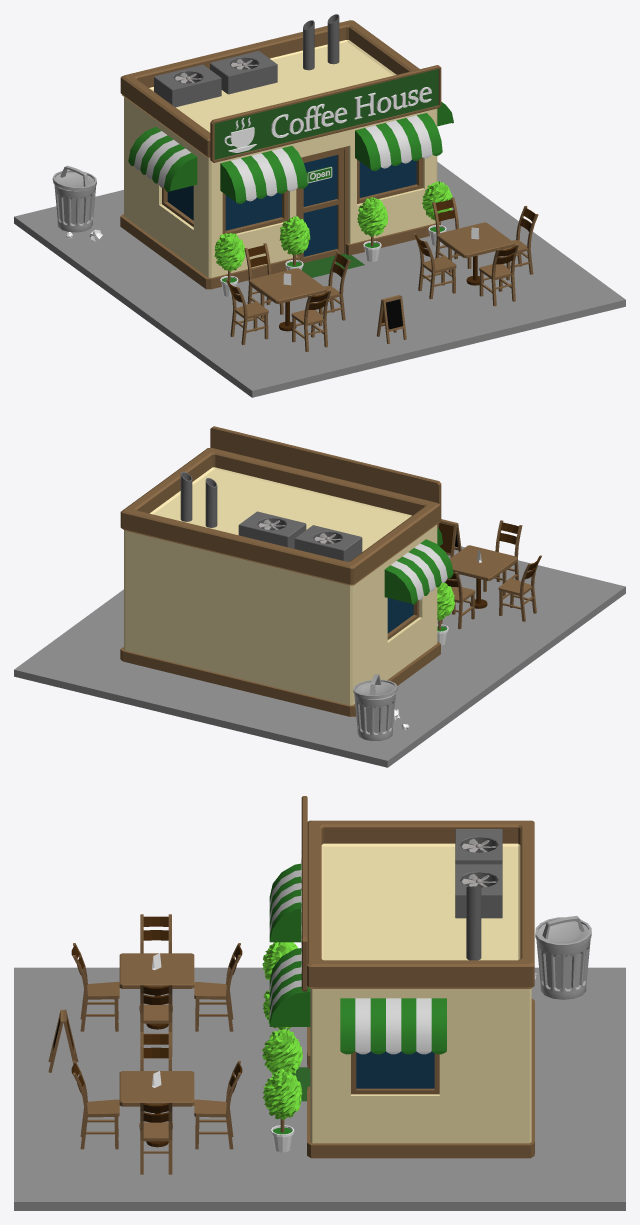
File: Cafe2.glb
The picture shows the model from 3 angles, top to bottom: view 1: azimuth 30°, elevation 25°; view 2: azimuth 150°, elevation 25°; view 3: azimuth 270°, elevation 25°; orthographic projection. The views are drawn at different scales.
Parts seen in each view (by area): view 1: object 19, object 1, object 25, object 3, object 5, object 6, object 12, object 2, object 13, object 15, object 44, object 50 (+20 smaller); view 2: object 1, object 19, object 25, object 12, object 44, object 20, object 13, object 15, object 45, object 47, object 21, object 48 (+5 smaller); view 3: object 19, object 1, object 10, object 9, object 44, object 6, object 50, object 20, object 5, object 15, object 52, object 13 (+14 smaller).
Part boxes in pixels (bbox=[...]): object 19: bbox=[14, 162, 625, 397]; object 1: bbox=[120, 20, 440, 289]; object 25: bbox=[210, 65, 441, 162]; object 3: bbox=[225, 155, 416, 256]; object 5: bbox=[220, 146, 307, 203]; object 6: bbox=[355, 113, 442, 170]; object 12: bbox=[128, 127, 197, 192]; object 2: bbox=[222, 146, 423, 256]; object 13: bbox=[154, 64, 221, 107]; object 15: bbox=[210, 51, 277, 94]; object 44: bbox=[249, 268, 326, 331]; object 50: bbox=[436, 222, 514, 285]; object 1: bbox=[120, 448, 440, 716]; object 19: bbox=[14, 546, 625, 767]; object 25: bbox=[210, 426, 441, 523]; object 12: bbox=[384, 539, 453, 604]; object 44: bbox=[450, 545, 517, 608]; object 20: bbox=[354, 682, 395, 741]; object 13: bbox=[294, 525, 362, 561]; object 15: bbox=[238, 511, 306, 548]; object 45: bbox=[498, 555, 541, 621]; object 47: bbox=[483, 520, 522, 596]; object 21: bbox=[353, 674, 397, 699]; object 48: bbox=[441, 572, 475, 629]; object 19: bbox=[14, 967, 625, 1210]; object 1: bbox=[272, 820, 534, 1158]; object 10: bbox=[340, 998, 446, 1054]; object 9: bbox=[356, 1051, 434, 1088]; object 44: bbox=[119, 953, 194, 1029]; object 6: bbox=[269, 948, 310, 1026]; object 50: bbox=[119, 1071, 194, 1147]; object 20: bbox=[536, 939, 590, 999]; object 5: bbox=[269, 863, 301, 942]; object 15: bbox=[455, 864, 502, 918]; object 52: bbox=[139, 1102, 172, 1174]; object 13: bbox=[455, 829, 502, 864].
Bounding box in the file's own units: 10.77 × 5.16 × 11.89.
